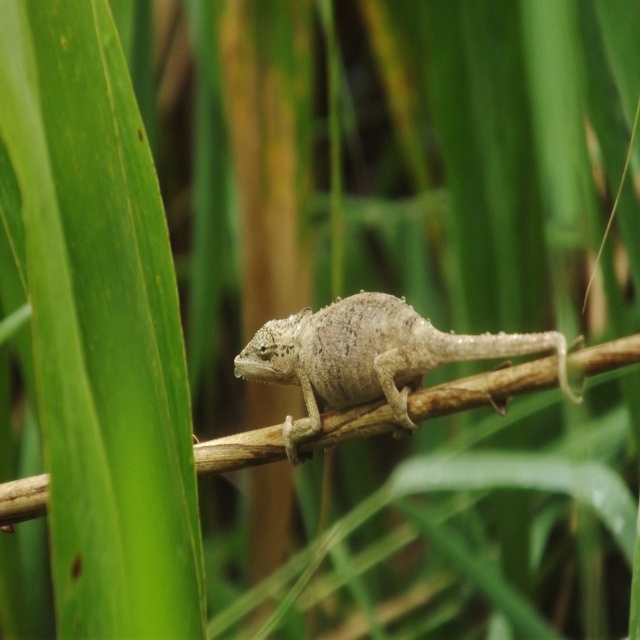Lizard: (234, 289, 583, 468)
